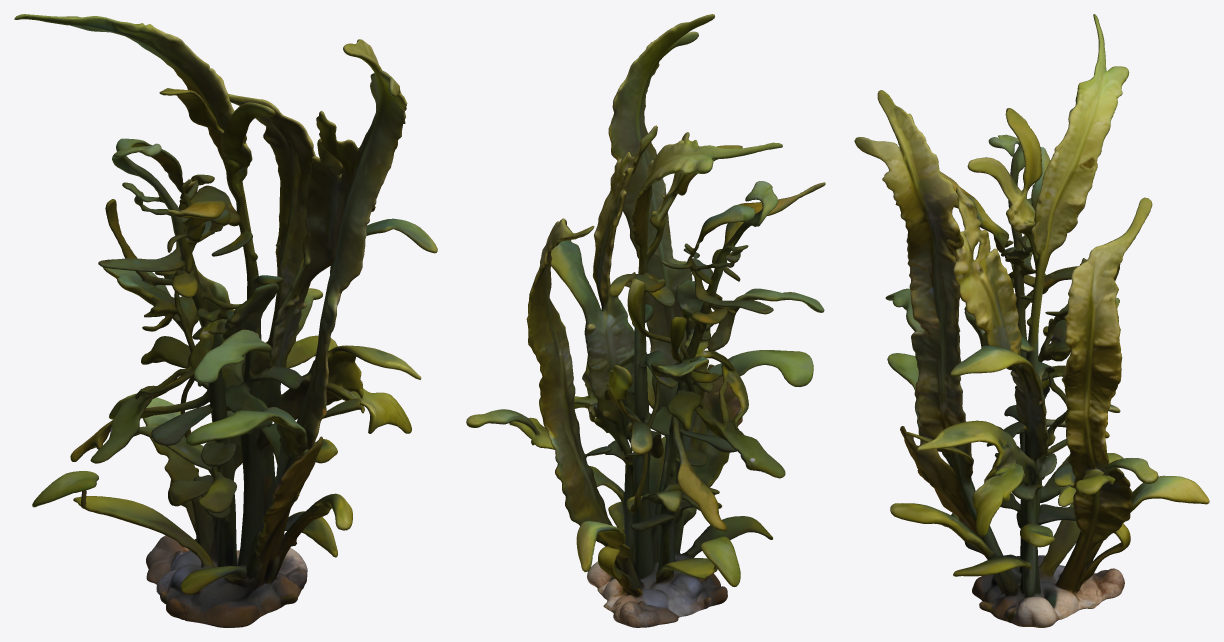
Rendered from nature-seaweed.glb.
The picture shows the model from 3 angles, left to right: view 1: azimuth 30°, elevation 25°; view 2: azimuth 150°, elevation 25°; view 3: azimuth 270°, elevation 25°; orthographic projection. The views are drawn at different scales.
Parts seen in each view (by area): view 1: tripo_node_e371424d-4a79-4211-bd32-7a5d93ea169e; view 2: tripo_node_e371424d-4a79-4211-bd32-7a5d93ea169e; view 3: tripo_node_e371424d-4a79-4211-bd32-7a5d93ea169e.
Boxes of the visible parts, x1,y1,x2,y2 form: tripo_node_e371424d-4a79-4211-bd32-7a5d93ea169e: [14, 14, 437, 627]; tripo_node_e371424d-4a79-4211-bd32-7a5d93ea169e: [466, 14, 825, 627]; tripo_node_e371424d-4a79-4211-bd32-7a5d93ea169e: [854, 14, 1209, 627].
Bounding box in the file's own units: 1.77 × 3 × 1.85.
1 material, 1 textured.
